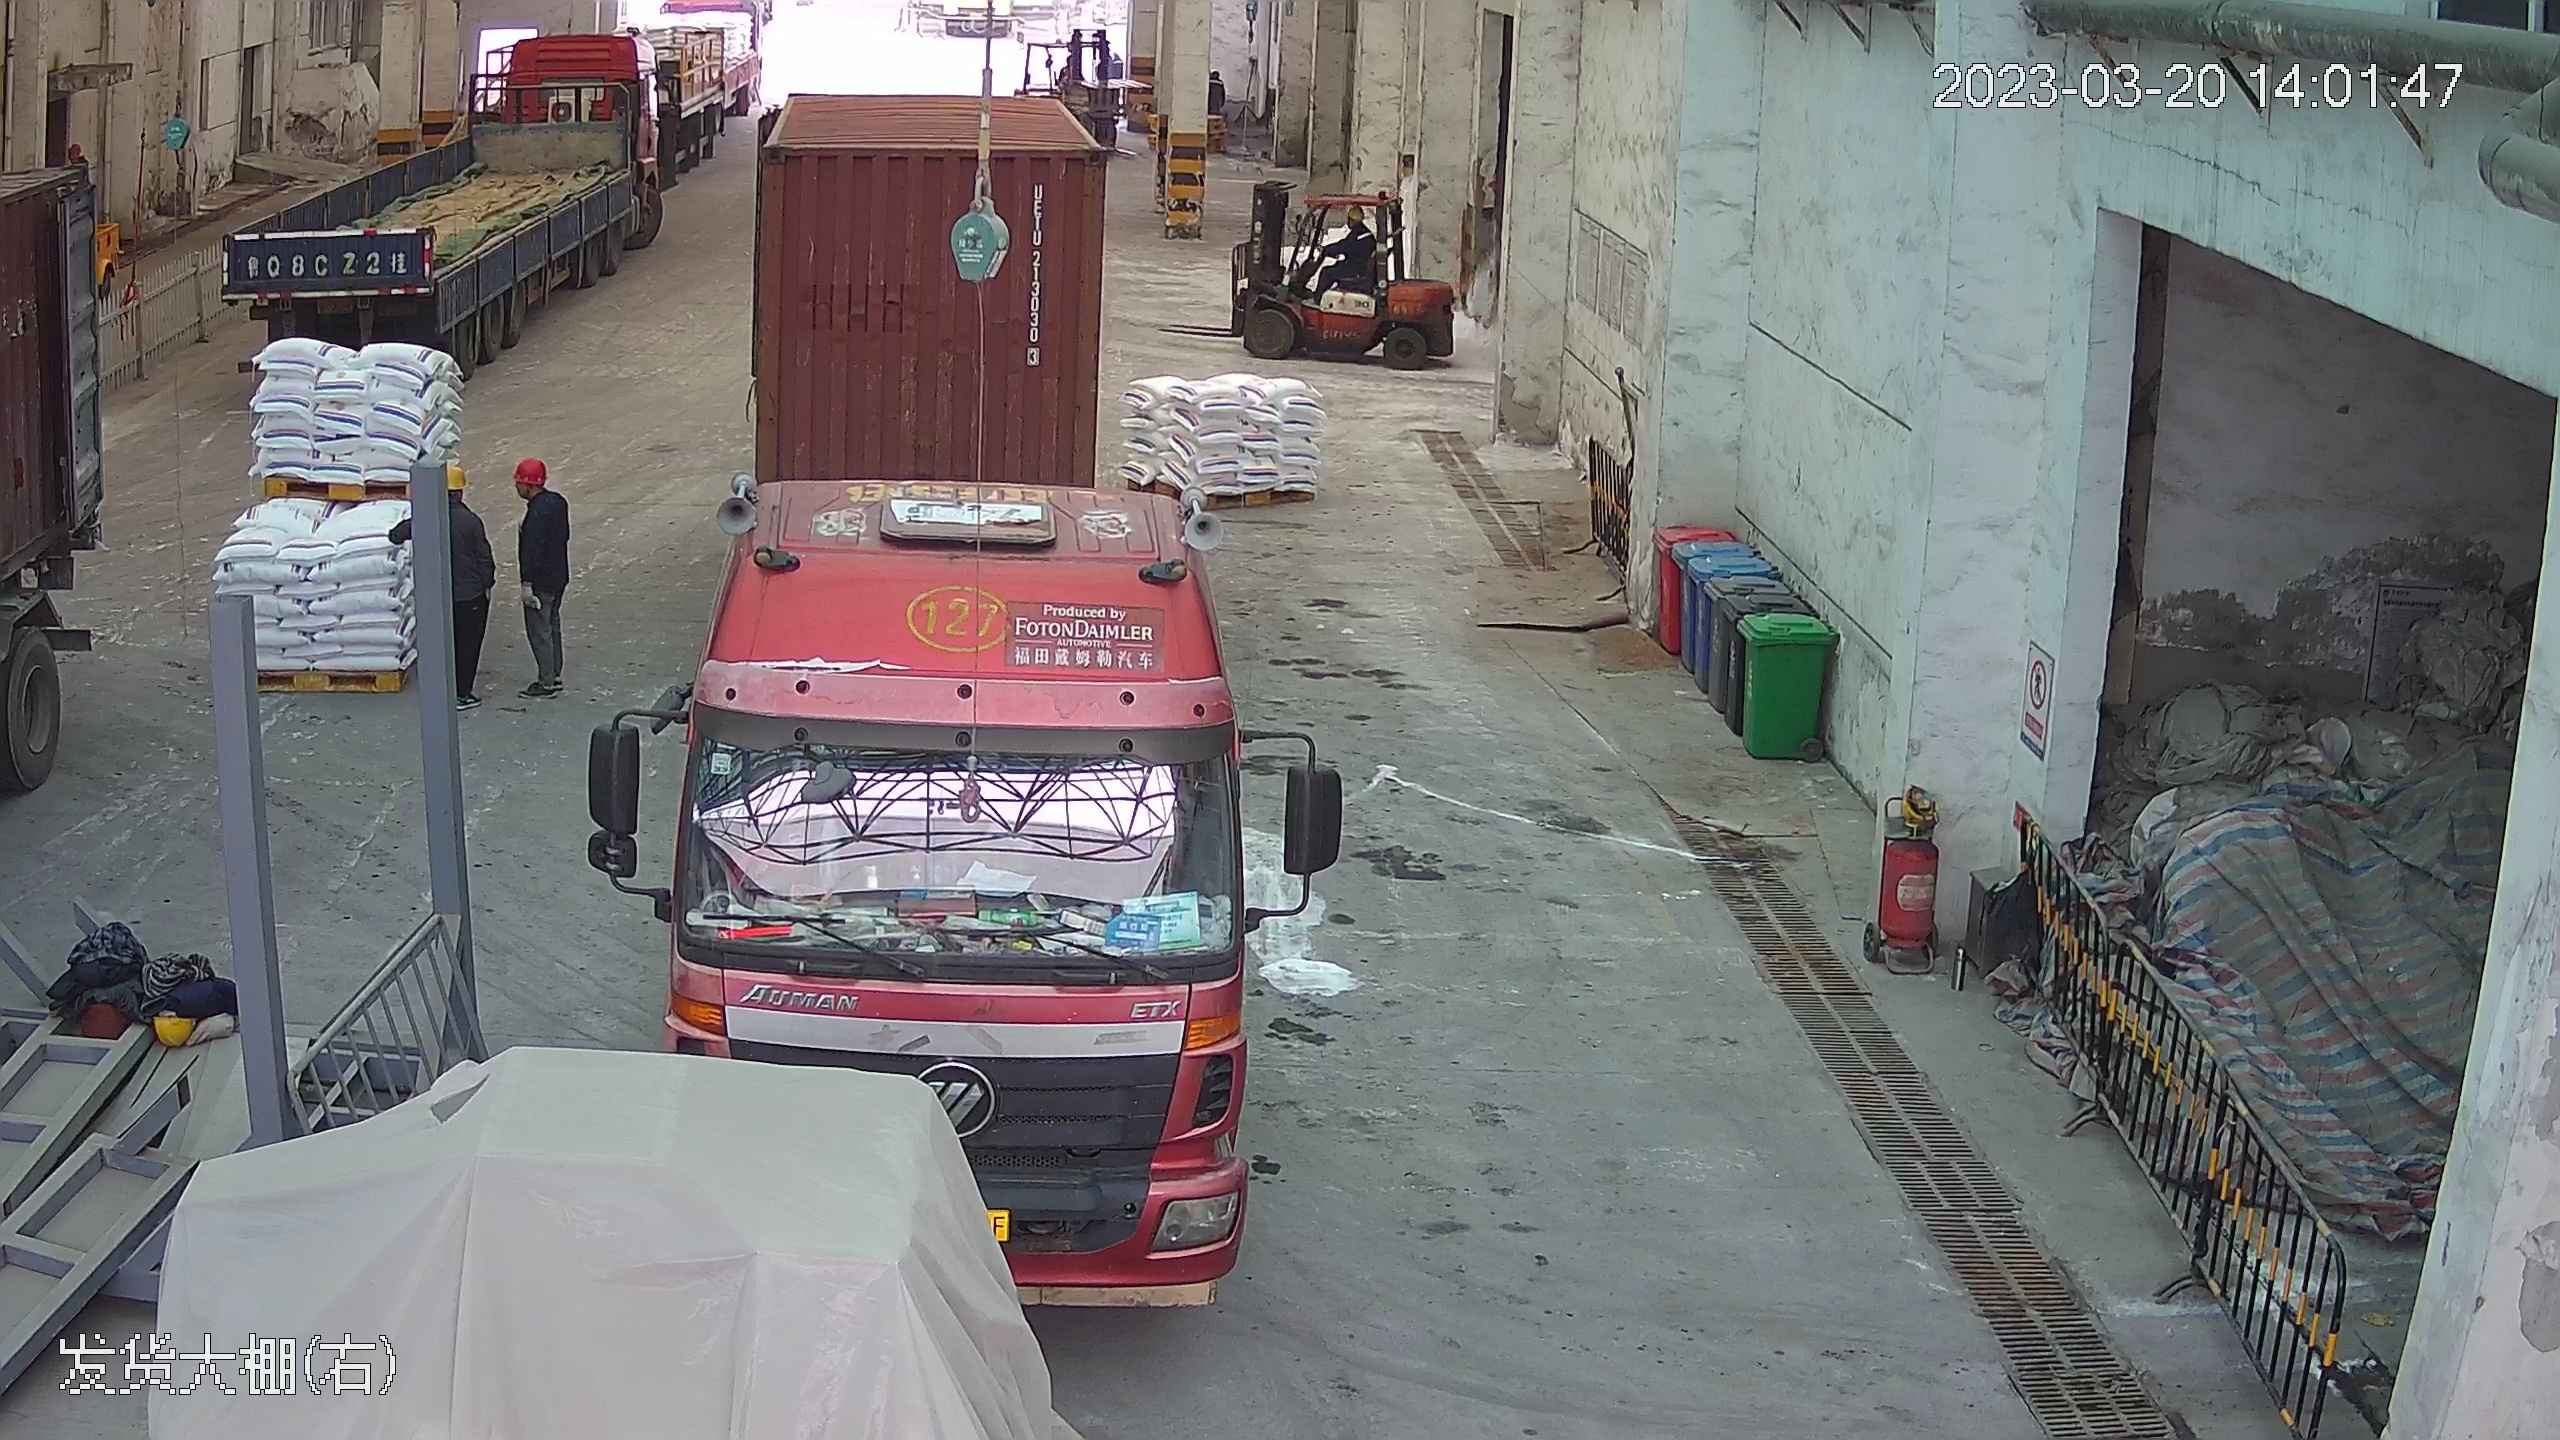head: (512, 453, 569, 532), (444, 458, 487, 536), (1322, 204, 1371, 252)
helmet: (511, 453, 568, 525), (513, 454, 546, 482), (1338, 204, 1367, 226), (445, 463, 471, 486), (68, 141, 84, 155)
people: (506, 452, 575, 703), (442, 458, 502, 710)
truck: (650, 21, 1271, 1305), (219, 19, 652, 378)
